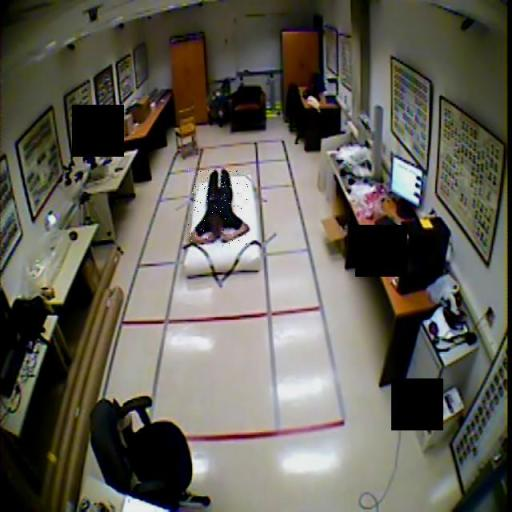Fall: (188, 170, 250, 246)
